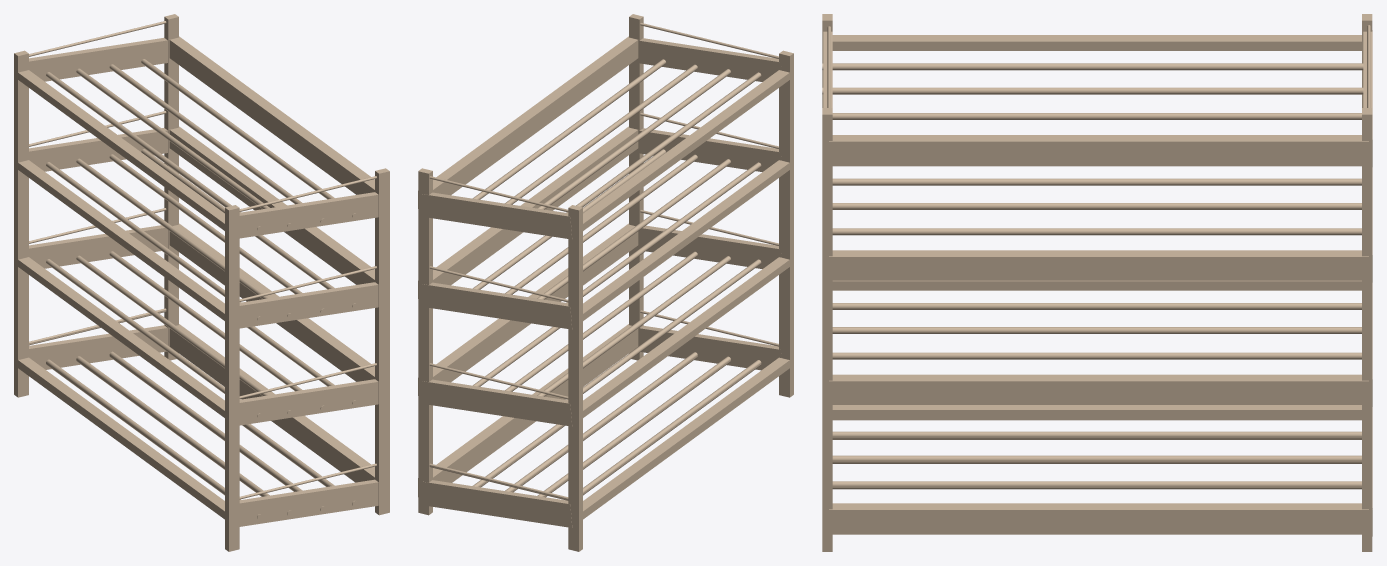
File: wood shoe rack.fbx
3 renders of one model, left to right at view 1: azimuth 30°, elevation 25°; view 2: azimuth 150°, elevation 25°; view 3: azimuth 270°, elevation 25°, orthographic. The views are drawn at different scales.
Visible parts, largest first — view 1: polySurface1; view 2: polySurface1; view 3: polySurface1.
Part boxes in pixels (left/top/right/bottom): polySurface1: left=14, top=14, right=389, bottom=551; polySurface1: left=418, top=14, right=793, bottom=551; polySurface1: left=822, top=14, right=1372, bottom=551.
Bounding box in the file's own units: 2.66 × 5.36 × 6.11.
